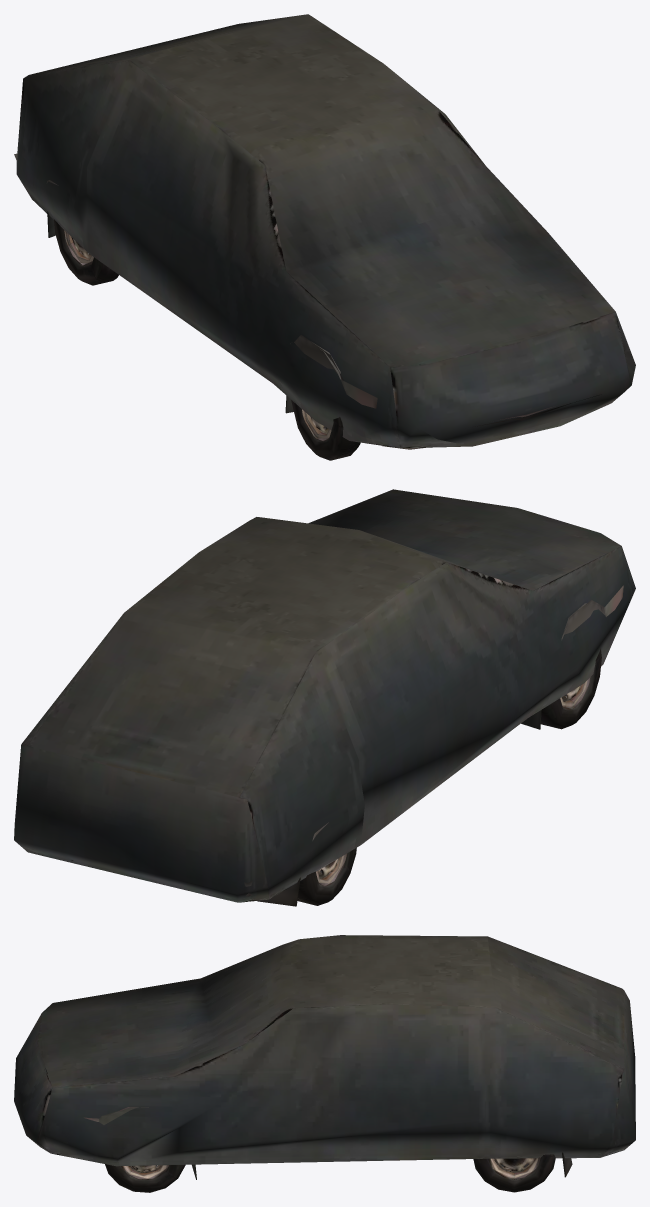
Rendered from covered_car_1k_lo.glb.
3 views of the same model, one above another, from view 1: azimuth 30°, elevation 25°; view 2: azimuth 150°, elevation 25°; view 3: azimuth 270°, elevation 25° (orthographic). The views are drawn at different scales.
Visible parts, largest first — view 1: covered_car, covered_car_wheel_02, covered_car_wheel_03; view 2: covered_car, covered_car_wheel_03, covered_car_wheel_02; view 3: covered_car, covered_car_wheel_04, covered_car_wheel_01.
Part boxes in pixels (x1=…): covered_car: x1=14, y1=14, x2=635, y2=449; covered_car_wheel_02: x1=291, y1=400, x2=360, y2=460; covered_car_wheel_03: x1=54, y1=219, x2=118, y2=285; covered_car: x1=14, y1=489, x2=635, y2=906; covered_car_wheel_03: x1=297, y1=848, x2=356, y2=905; covered_car_wheel_02: x1=541, y1=648, x2=601, y2=729; covered_car: x1=14, y1=935, x2=635, y2=1179; covered_car_wheel_04: x1=473, y1=1154, x2=555, y2=1192; covered_car_wheel_01: x1=105, y1=1164, x2=185, y2=1192.
Bounding box in the file's own units: 1.78 × 1.37 × 4.34.
Materials: 1 (1 with a texture image).
